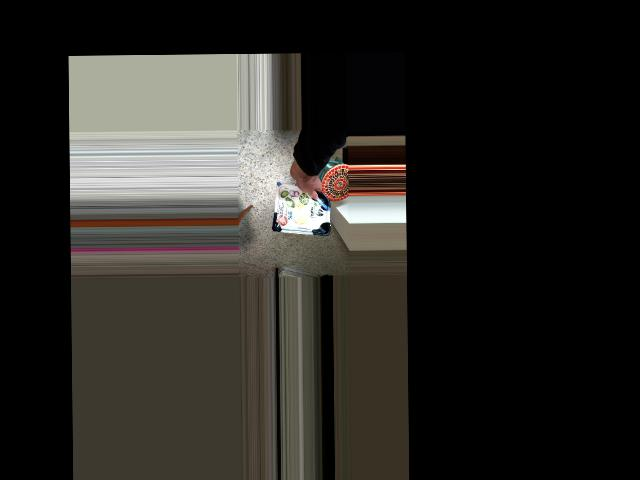cheese: (271, 164, 329, 224)
